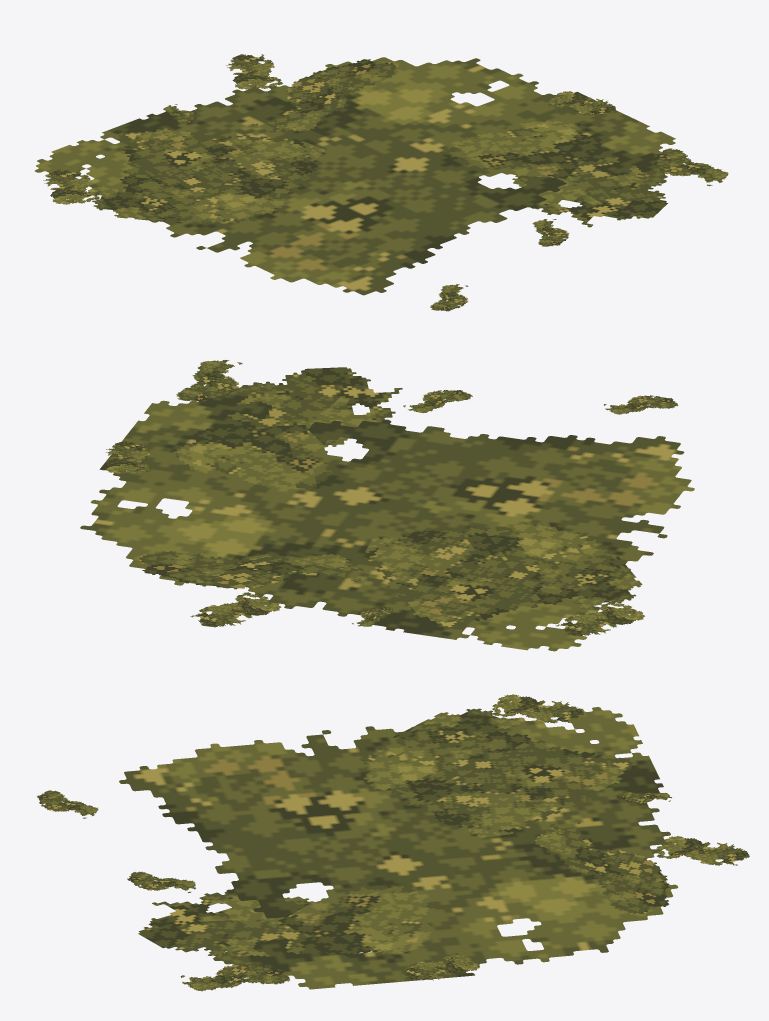
The model's file is SM_SW04_DuckweedPatch.fbx.
3 views of the same model, one above another, from view 1: azimuth 30°, elevation 25°; view 2: azimuth 150°, elevation 25°; view 3: azimuth 270°, elevation 25° (orthographic). The views are drawn at different scales.
Parts seen in each view (by area): view 1: SW04a_Plants; view 2: SW04a_Plants; view 3: SW04a_Plants.
Part boxes in pixels (x1,y1,x2,y2): SW04a_Plants: [35, 54, 728, 311]; SW04a_Plants: [80, 360, 694, 651]; SW04a_Plants: [37, 694, 749, 991].
Bounding box in the file's own units: 1.81 × 0.00636 × 1.77.
